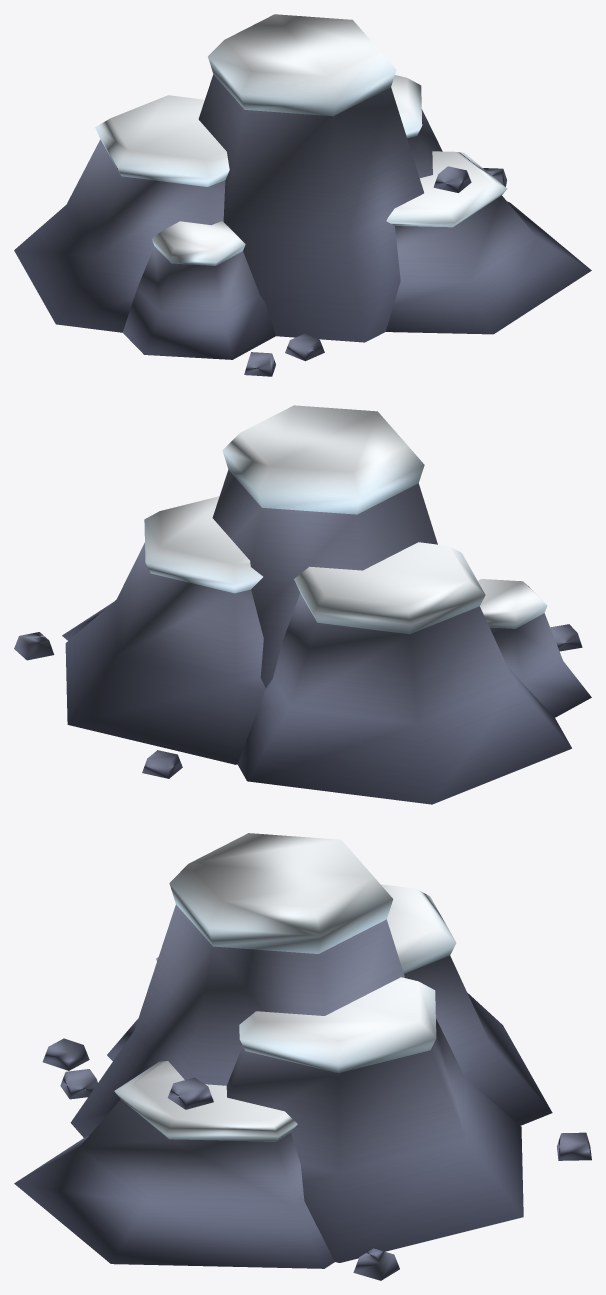
File: rocks-medium_lev3.glb
3 views of the same model, one above another, from view 1: azimuth 30°, elevation 25°; view 2: azimuth 150°, elevation 25°; view 3: azimuth 270°, elevation 25° (orthographic). The views are drawn at different scales.
Visible parts, largest first — view 1: rocks-medium_lev3; view 2: rocks-medium_lev3; view 3: rocks-medium_lev3.
Part boxes in pixels (left/top/right/bottom): rocks-medium_lev3: left=14, top=14, right=591, bottom=376; rocks-medium_lev3: left=14, top=405, right=591, bottom=804; rocks-medium_lev3: left=14, top=833, right=591, bottom=1280.
Bounding box in the file's own units: 15.86 × 7.03 × 13.76.
Materials: 1 (1 with a texture image).
